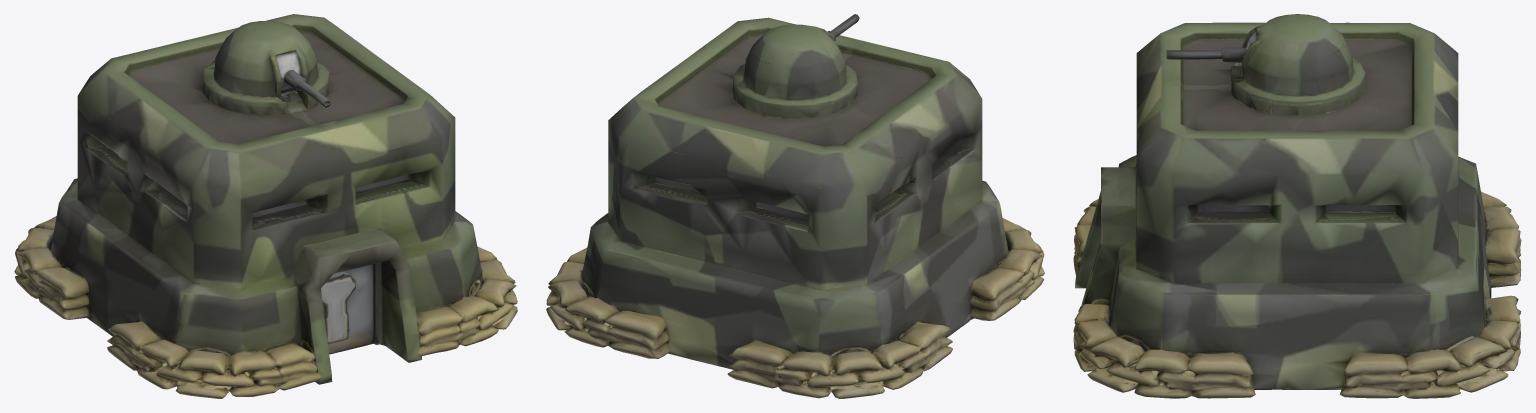
Rendered from bunker.glb.
The picture shows the model from 3 angles, left to right: view 1: azimuth 30°, elevation 25°; view 2: azimuth 150°, elevation 25°; view 3: azimuth 270°, elevation 25°; orthographic projection. The views are drawn at different scales.
Parts seen in each view (by area): view 1: Mesh1.0; view 2: Mesh1.0; view 3: Mesh1.0.
Boxes of the visible parts, x1=… form: Mesh1.0: x1=14, y1=14, x2=517, y2=398; Mesh1.0: x1=546, y1=14, x2=1044, y2=398; Mesh1.0: x1=1073, y1=14, x2=1521, y2=398.
Bounding box in the file's own units: 1.91 × 1.36 × 1.91.
Materials: 1 (1 with a texture image).
